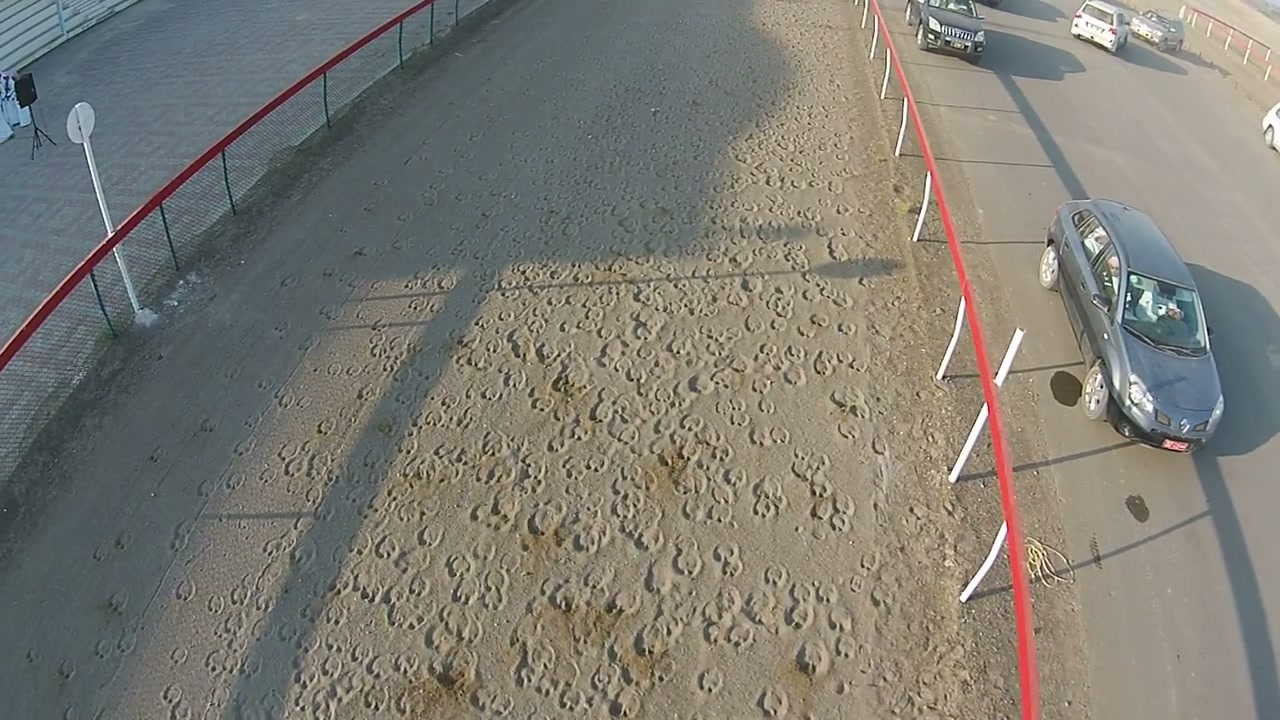animal_footprint: (31, 2, 989, 719)
